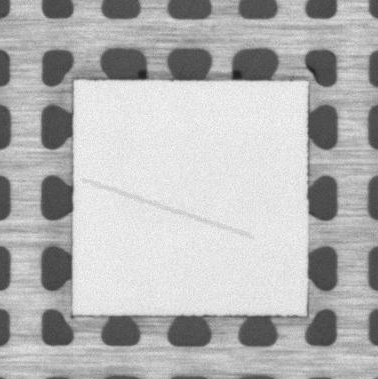DIE_CRACK: (83, 180, 250, 237)
